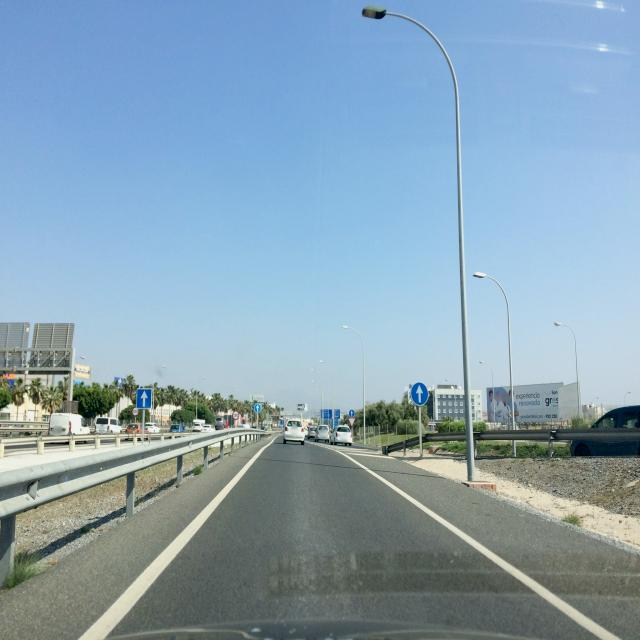car: (569, 402, 640, 459), (48, 412, 84, 435), (282, 418, 305, 445), (94, 416, 123, 435), (330, 425, 352, 446), (314, 424, 330, 443), (169, 423, 185, 437), (144, 422, 162, 434), (306, 425, 317, 440)
